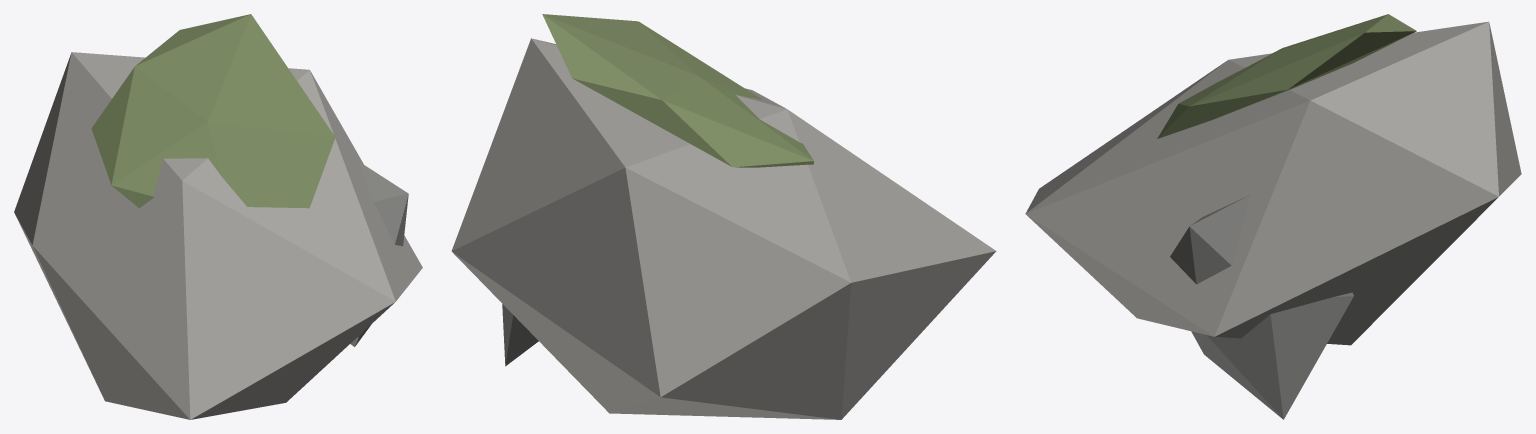
The model's file is v_rock_a.glb.
3 views of the same model, side by side, from view 1: azimuth 30°, elevation 25°; view 2: azimuth 150°, elevation 25°; view 3: azimuth 270°, elevation 25° (orthographic). The views are drawn at different scales.
Visible parts, largest first — view 1: Rock; view 2: Rock; view 3: Rock.
Boxes of the visible parts, x1,y1,x2,y2 form: Rock: [14, 14, 422, 419]; Rock: [451, 14, 996, 419]; Rock: [1025, 14, 1521, 419].
Size of what is drawn, in the model's own units: 1.89 by 1.74 by 2.22.
